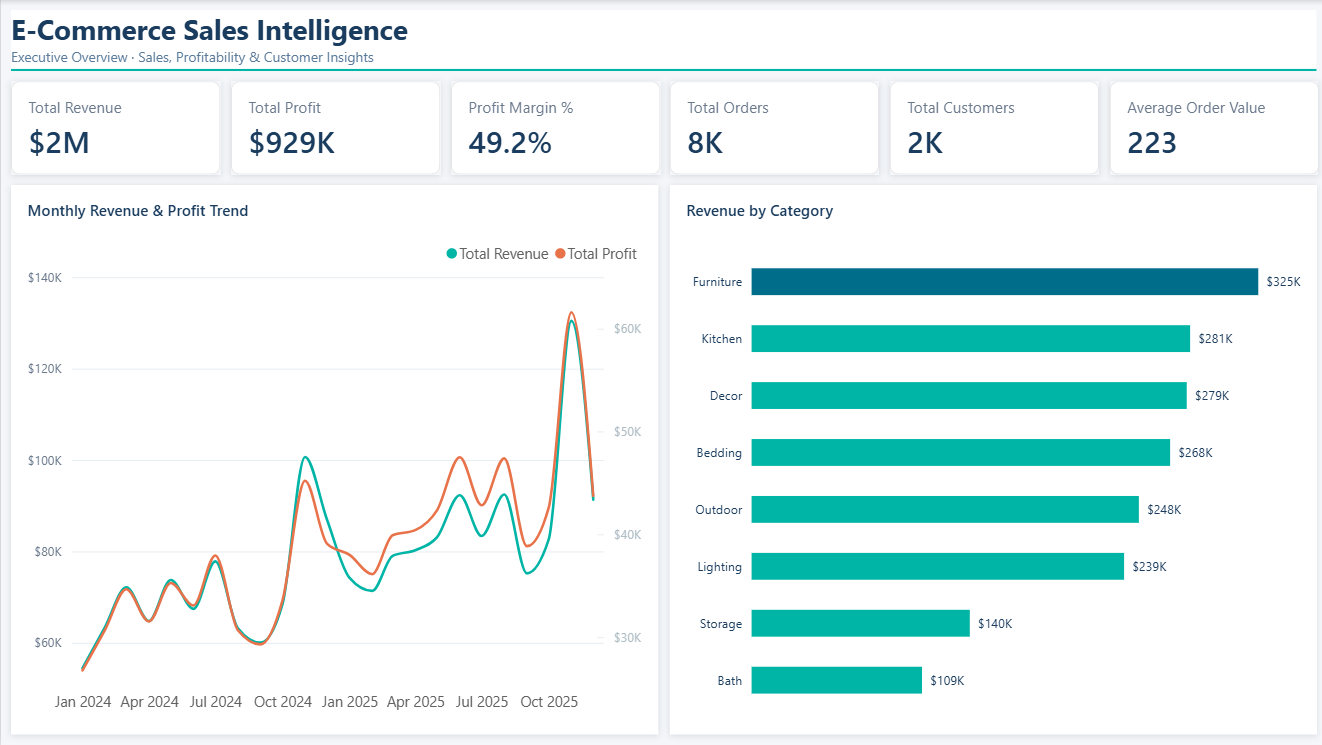

The dashboard page shown, as its layout file describes it:
{"tool":"powerbi","page":{"name":"Executive Overview","canvas":[1280,720],"ordinal":0},"visuals":[{"type":"cardVisual","title":"Total Revenue","fields":{"Data":["_Measures.Total Revenue"]},"box":[10,78,202,90],"z":0},{"type":"cardVisual","fields":{"Data":["_Measures.Total Profit"]},"box":[222,78,202,90],"z":1000},{"type":"cardVisual","fields":{"Data":["_Measures.Profit Margin %"]},"box":[434,78,202,90],"z":2000},{"type":"cardVisual","fields":{"Data":["_Measures.Average Order Value"]},"box":[1070,78,202,90],"z":3000},{"type":"cardVisual","fields":{"Data":["_Measures.Total Customers"]},"box":[858,78,202,90],"z":4000},{"type":"cardVisual","fields":{"Data":["_Measures.Total Orders"]},"box":[646,78,202,90],"z":5000},{"type":"lineChart","title":"Monthly Revenue & Profit Trend","fields":{"Category":["DimDate.YearMonth"],"Y":["_Measures.Total Revenue"],"Y2":["_Measures.Total Profit"]},"box":[10,178,625,530],"z":6000},{"type":"clusteredBarChart","title":"Revenue by Category","fields":{"Category":["DimProduct.Category"],"Y":["_Measures.Total Revenue"]},"box":[645.4,178.6,625,530],"z":7000},{"type":"textbox","box":[10,10,1260,58],"z":8000},{"type":"shape","box":[9.7,61.5,1260,12],"z":9000}]}

Visuals, with their boxes in screenshot pixels (x1, y1, x2, y2), scaled from the page's 1280x720 canvas onto the 1322x745 screenshot:
"Total Revenue" cardVisual: (10,81,219,174)
cardVisual - _Measures.Total Profit: (229,81,438,174)
cardVisual - _Measures.Profit Margin %: (448,81,657,174)
cardVisual - _Measures.Average Order Value: (1105,81,1314,174)
cardVisual - _Measures.Total Customers: (886,81,1095,174)
cardVisual - _Measures.Total Orders: (667,81,876,174)
"Monthly Revenue & Profit Trend" lineChart: (10,184,656,733)
"Revenue by Category" clusteredBarChart: (667,185,1312,733)
textbox: (10,10,1312,70)
shape: (10,64,1311,76)
